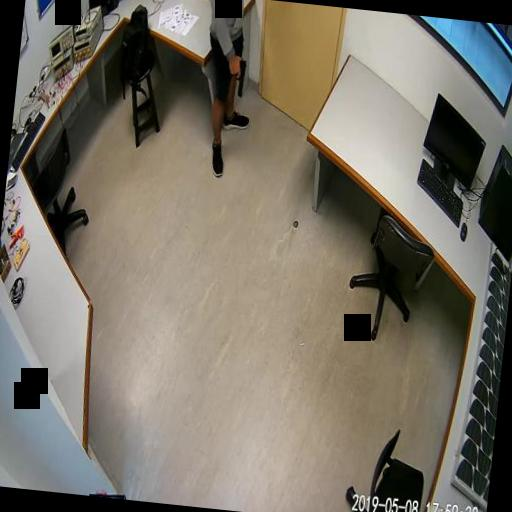Handgun: (230, 56, 246, 98)
